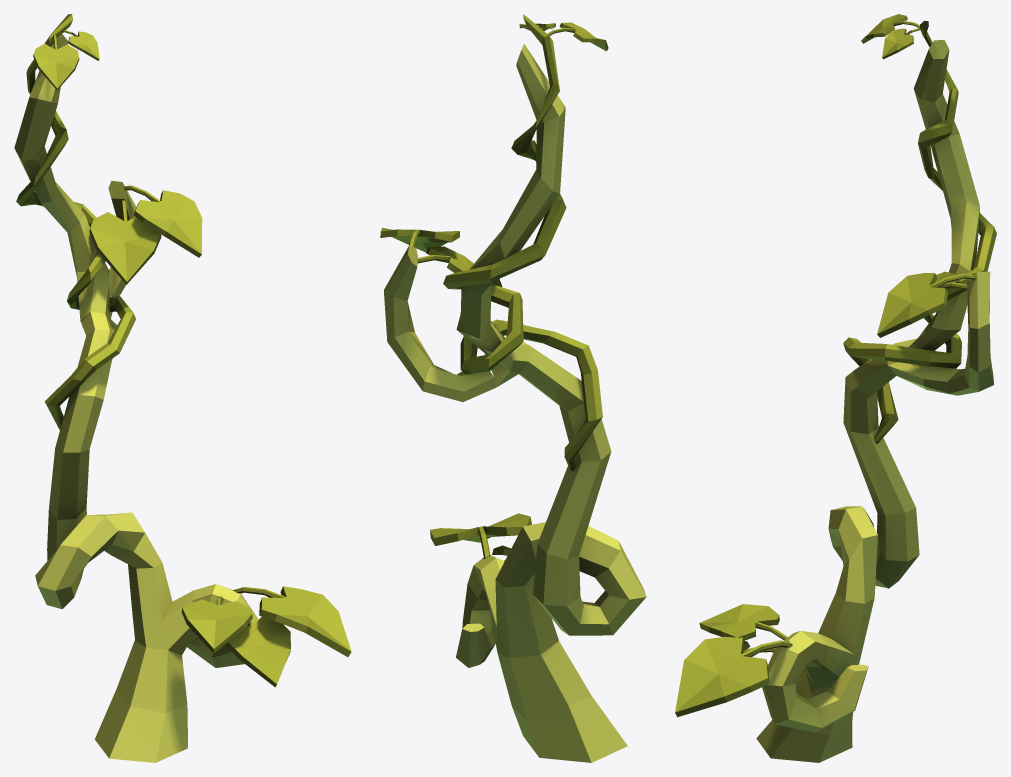
Rendered from Beanstalk-optimized.glb.
3 views of the same model, side by side, from view 1: azimuth 30°, elevation 25°; view 2: azimuth 150°, elevation 25°; view 3: azimuth 270°, elevation 25° (orthographic). The views are drawn at different scales.
Visible parts, largest first — view 1: Beanstalk; view 2: Beanstalk; view 3: Beanstalk.
Part boxes in pixels (bbox=[...]): Beanstalk: bbox=[14, 14, 351, 762]; Beanstalk: bbox=[380, 14, 646, 762]; Beanstalk: bbox=[675, 14, 996, 762].
Bounding box in the file's own units: 1.12 × 3.06 × 1.25.
Materials: 1 (1 with a texture image).
